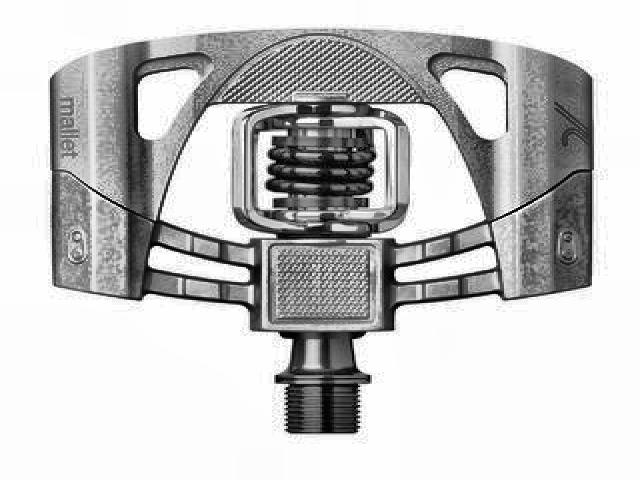pedal: (42, 26, 597, 434)
